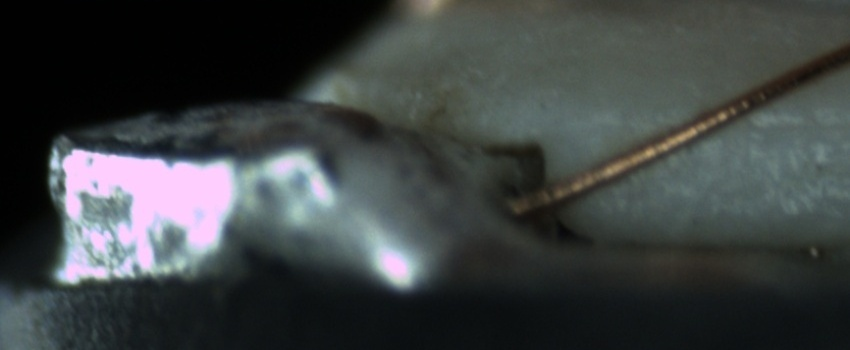DL: (630, 97, 849, 156)
